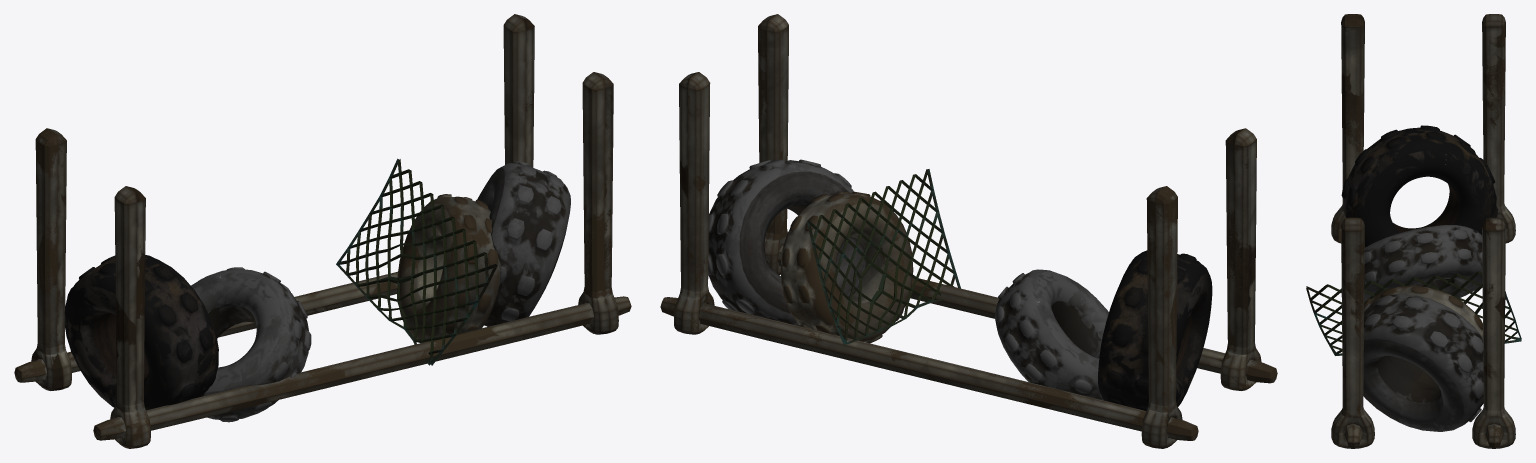
File: Wheel_Holder.fbx
3 views of the same model, side by side, from view 1: azimuth 30°, elevation 25°; view 2: azimuth 150°, elevation 25°; view 3: azimuth 270°, elevation 25° (orthographic). The views are drawn at different scales.
Visible parts, largest first — view 1: Wheel.004, Stange.001, Wheel.002, Wheel.003, Zaun3.001, Wheel.001, Halter1.002, Halter1.004, Halter1.003, Halter1.001, Stange; view 2: Wheel.002, Wheel.001, Stange, Wheel.003, Wheel.004, Zaun3.001, Halter1.002, Halter1.003, Halter1.001, Halter1.004, Stange.001; view 3: Wheel.002, Wheel.004, Wheel.003, Halter1.001, Halter1.004, Halter1.003, Halter1.002, Zaun3.001, Wheel.001, Stange, Stange.001.
Boxes of the visible parts, x1,y1,x2,y2 form: Wheel.004: (64, 255, 218, 410); Stange.001: (93, 296, 631, 440); Wheel.002: (477, 161, 570, 326); Wheel.003: (191, 267, 311, 422); Zaun3.001: (336, 158, 497, 365); Wheel.001: (397, 194, 500, 343); Halter1.002: (110, 186, 150, 448); Halter1.004: (578, 72, 618, 334); Halter1.003: (31, 128, 71, 390); Halter1.001: (503, 14, 534, 167); Stange: (14, 271, 397, 382); Wheel.002: (708, 159, 866, 326); Wheel.001: (780, 191, 913, 343); Stange: (660, 297, 1198, 440); Wheel.003: (995, 269, 1108, 400); Wheel.004: (1098, 250, 1212, 410); Zaun3.001: (807, 169, 960, 344); Halter1.002: (1220, 128, 1261, 390); Halter1.003: (1141, 186, 1182, 448); Halter1.001: (674, 72, 714, 334); Halter1.004: (758, 14, 788, 275); Stange.001: (778, 245, 1277, 383); Wheel.002: (1363, 294, 1483, 431); Wheel.004: (1341, 125, 1498, 247); Wheel.003: (1364, 225, 1482, 301); Halter1.001: (1472, 217, 1515, 448); Halter1.004: (1331, 217, 1374, 448); Halter1.003: (1482, 14, 1515, 243); Halter1.002: (1331, 14, 1364, 243); Zaun3.001: (1306, 271, 1521, 355); Wheel.001: (1364, 285, 1482, 337); Stange: (1485, 423, 1503, 447); Stange.001: (1344, 423, 1362, 447).
Size of the model in its own units: 222 by 110 by 86.86.
